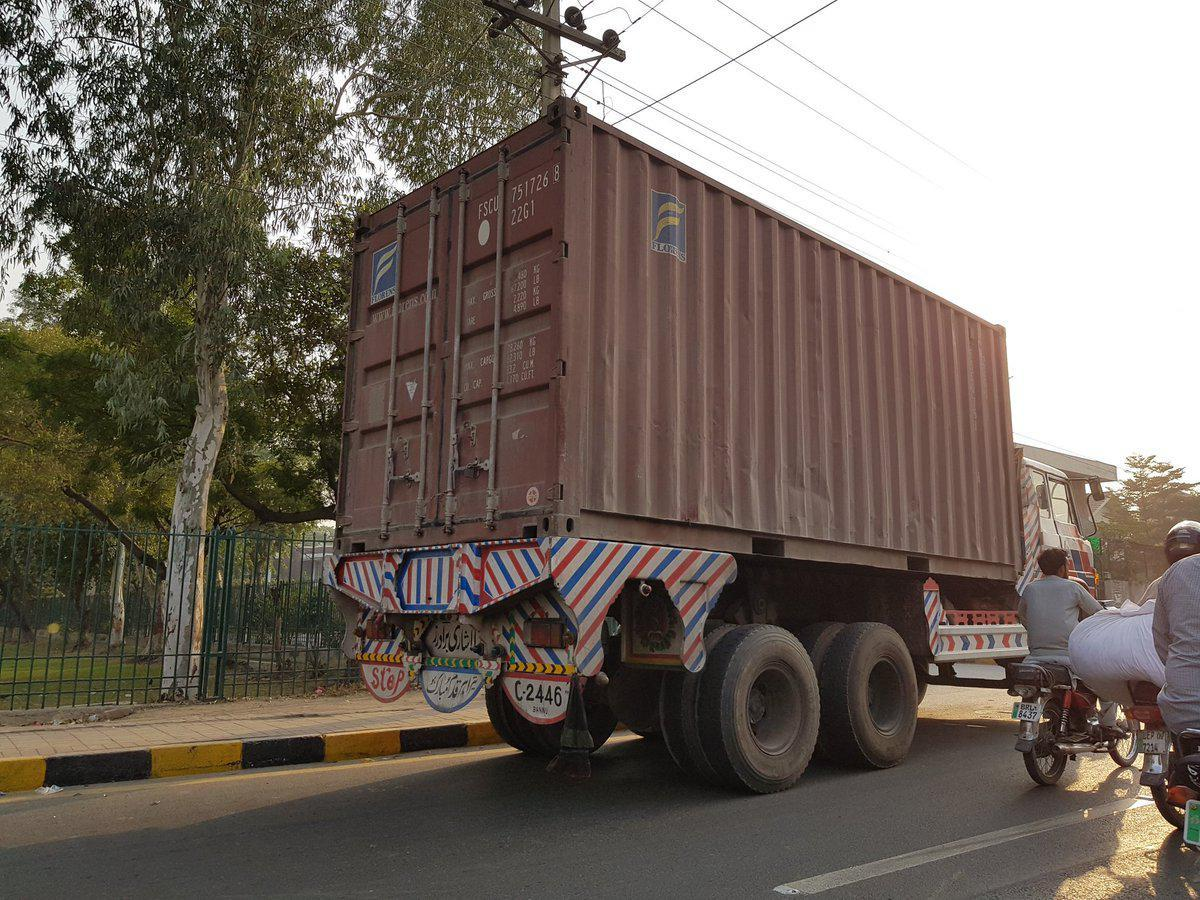Motorcycle: (1006, 656, 1145, 792)
Person: (1148, 523, 1199, 821), (1019, 545, 1106, 666)
Truck: (328, 96, 1106, 786)
